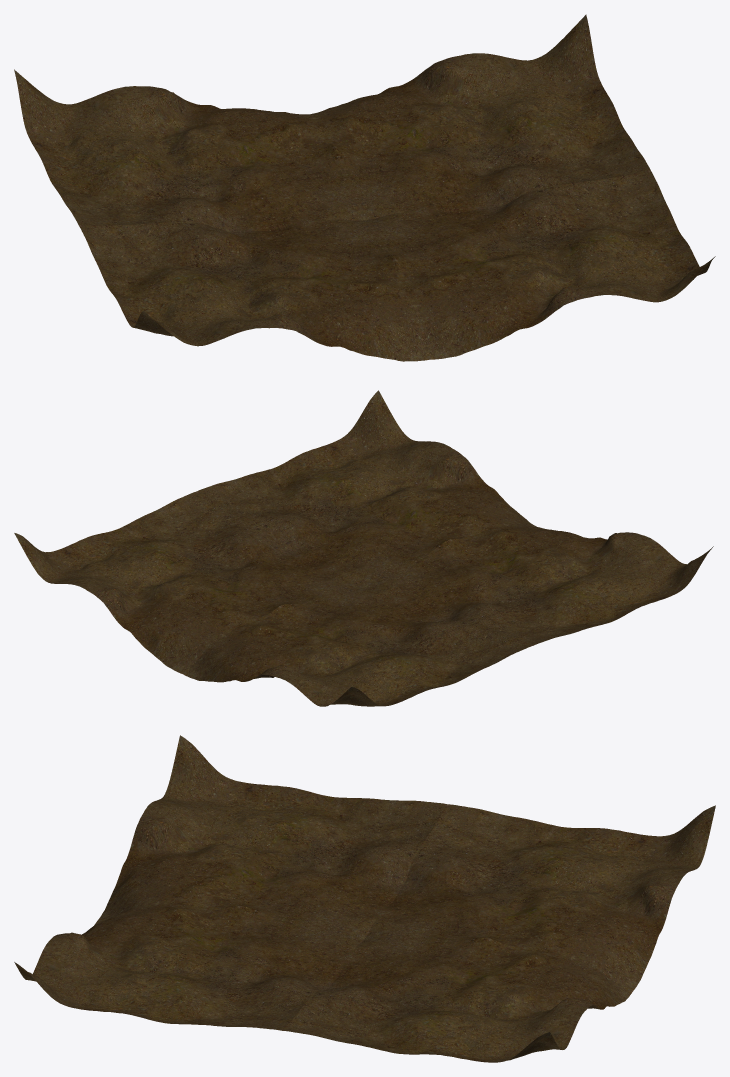
3 renders of one model, top to bottom at view 1: azimuth 30°, elevation 25°; view 2: azimuth 150°, elevation 25°; view 3: azimuth 270°, elevation 25°, orthographic. The views are drawn at different scales.
Visible parts, largest first — view 1: TxtMesh; view 2: TxtMesh; view 3: TxtMesh.
Part boxes in pixels (left/top/right/bottom): TxtMesh: left=14, top=14, right=715, bottom=361; TxtMesh: left=14, top=390, right=713, bottom=706; TxtMesh: left=14, top=735, right=715, bottom=1062.
Bounding box in the file's own units: 250 × 28.65 × 250.
